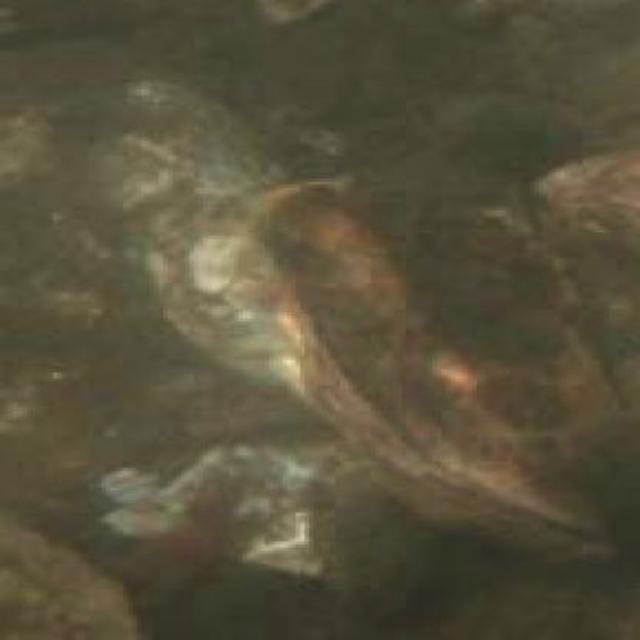Oyster-Closed: (265, 168, 640, 563), (109, 83, 292, 376), (0, 513, 144, 640), (539, 150, 640, 241)
